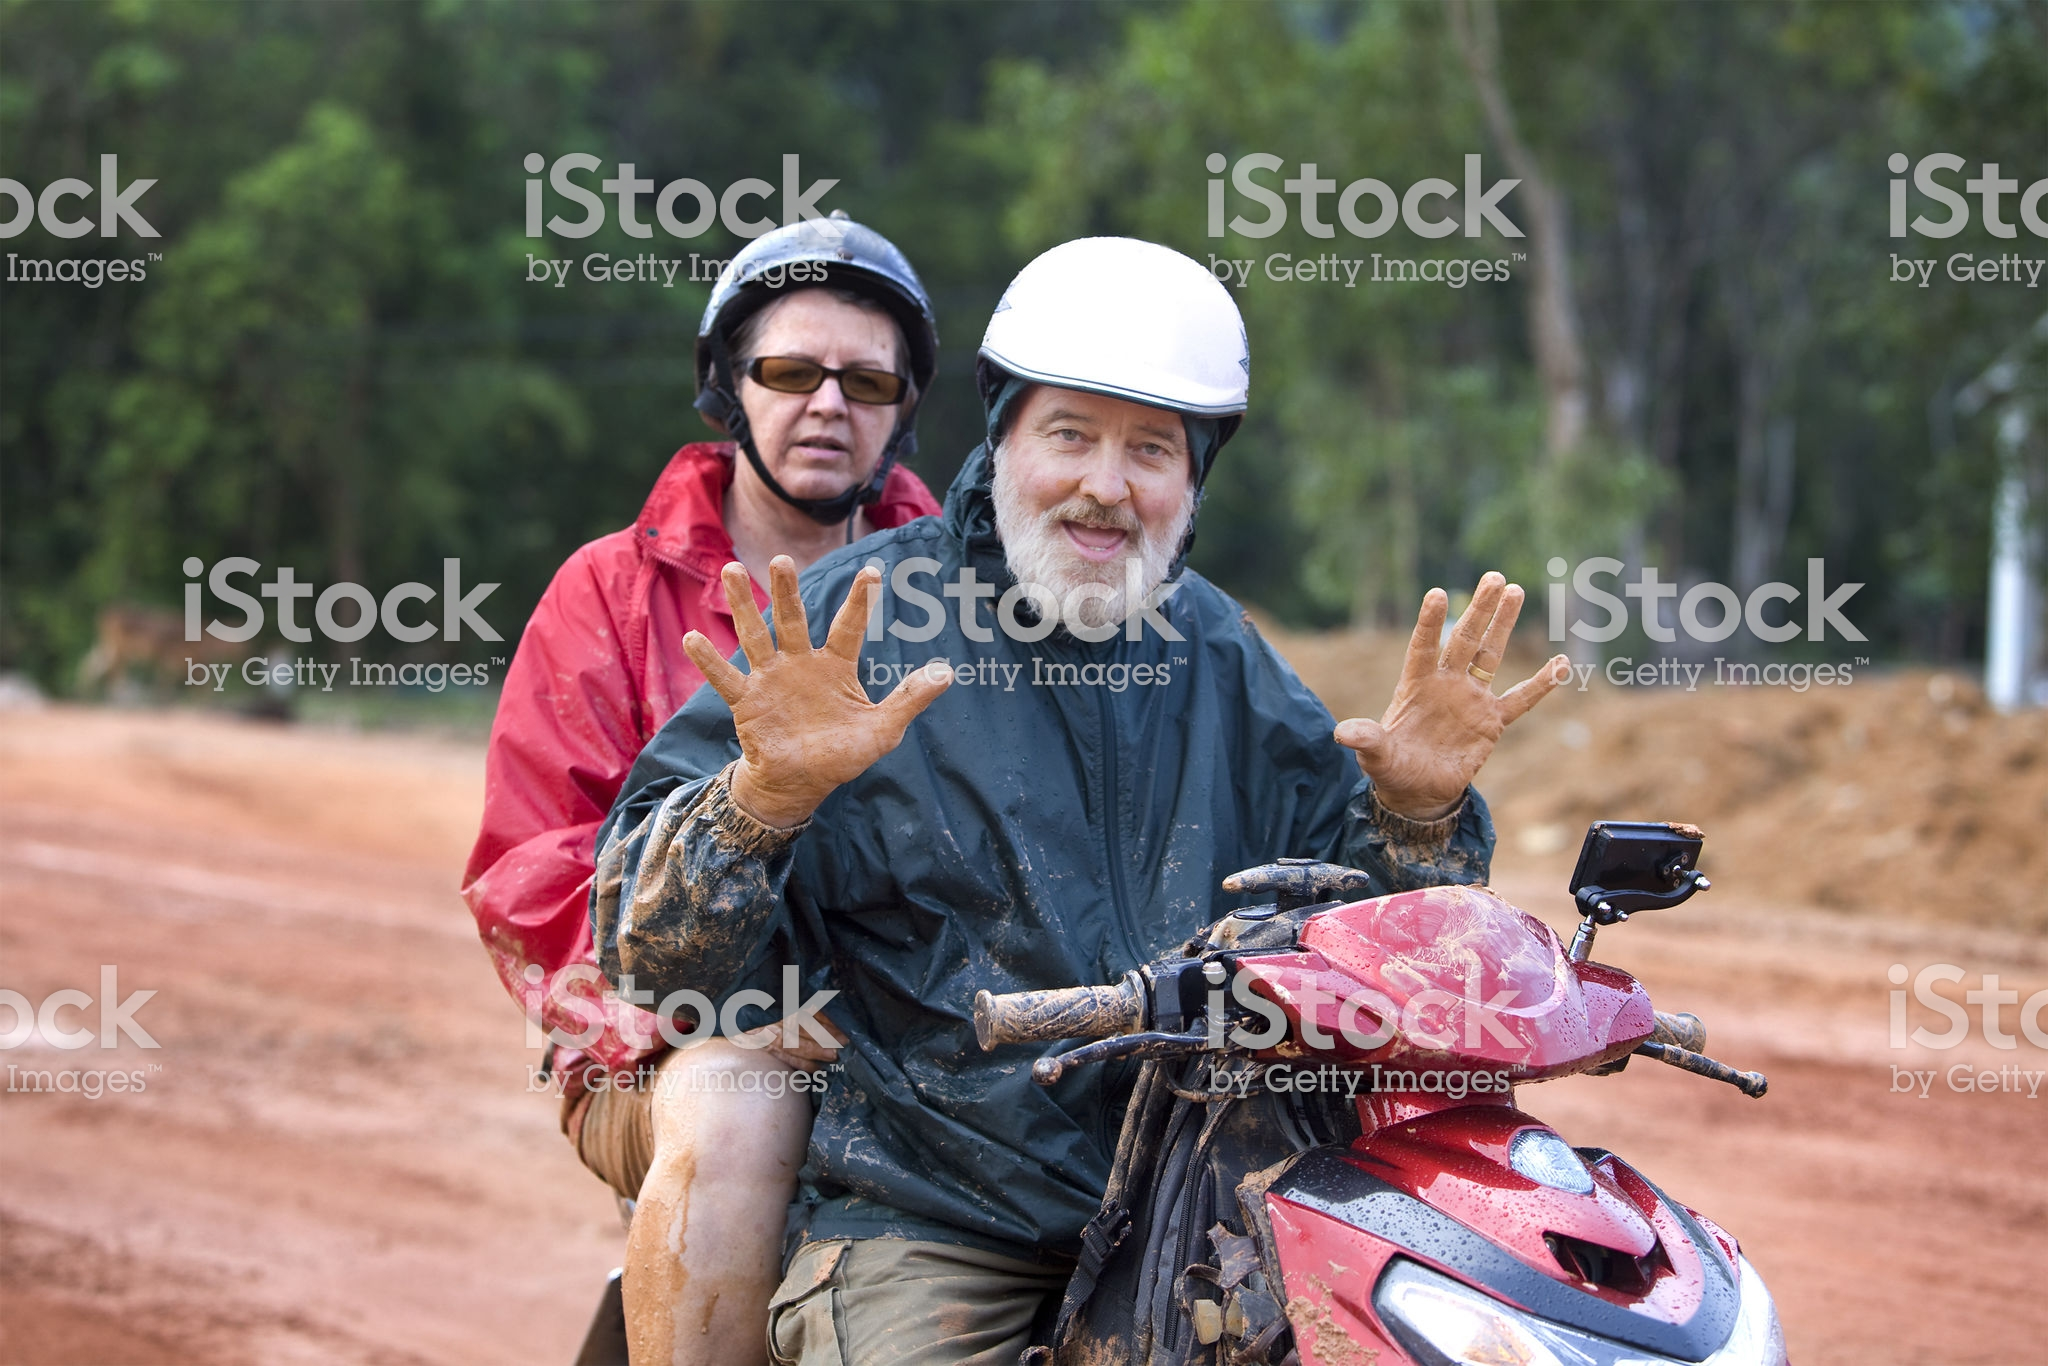helmet: (958, 215, 1265, 441), (680, 200, 952, 345)
